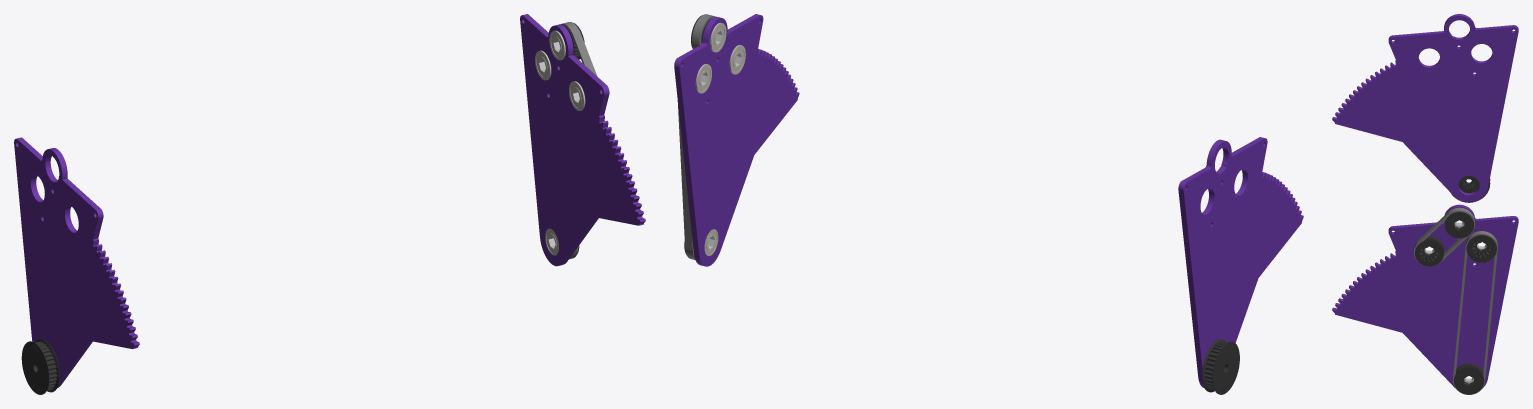
The picture shows the model from 3 angles, left to right: view 1: azimuth 30°, elevation 25°; view 2: azimuth 150°, elevation 25°; view 3: azimuth 270°, elevation 25°; orthographic projection. The views are drawn at different scales.
Visible parts, largest first — view 1: Part 2 (×2), 33t Custom HTD 5mm Pulley (0.375" Wide, SplineXS Insert); view 2: Part 2 (×2), 33t Custom HTD 5mm Pulley (0.375" Wide, SplineXS Insert), Part 1; view 3: Part 2 (×2), Part 1 (×2), 23t Custom HTD 5mm Pulley (0.375" Wide, 1/2" Hex Bore w/ WCP (×2), 22t Custom HTD 5mm Pulley (0.375" Wide, 1/2" Hex Bore w/ WCP (×2), 33t Custom HTD 5mm Pulley (0.375" Wide, SplineXS Insert).
Boxes of the visible parts, <box> form: Part 2 (×2): <box>14,14,645,387</box>; 33t Custom HTD 5mm Pulley (0.375" Wide, SplineXS Insert): <box>21,339,59,394</box>; Part 2 (×2): <box>674,14,1303,388</box>; 33t Custom HTD 5mm Pulley (0.375" Wide, SplineXS Insert): <box>1202,339,1239,394</box>; Part 1: <box>677,101,695,259</box>; Part 2 (×2): <box>1332,14,1518,388</box>; Part 1 (×2): <box>1414,207,1497,394</box>; 23t Custom HTD 5mm Pulley (0.375" Wide, 1/2" Hex Bore w/ WCP (×2): <box>1454,235,1496,394</box>; 22t Custom HTD 5mm Pulley (0.375" Wide, 1/2" Hex Bore w/ WCP (×2): <box>1415,212,1473,266</box>; 33t Custom HTD 5mm Pulley (0.375" Wide, SplineXS Insert): <box>1451,176,1490,200</box>.
Bounding box in the file's own units: 0.634 × 0.2773 × 0.2479.
